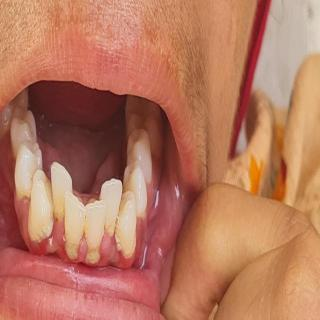Gum Swelling: (40, 239, 54, 255)
calculus: (10, 163, 34, 211), (116, 231, 136, 266), (21, 212, 37, 254), (62, 236, 80, 264), (86, 245, 100, 266)
maligned: (99, 176, 120, 243), (50, 161, 74, 217)
